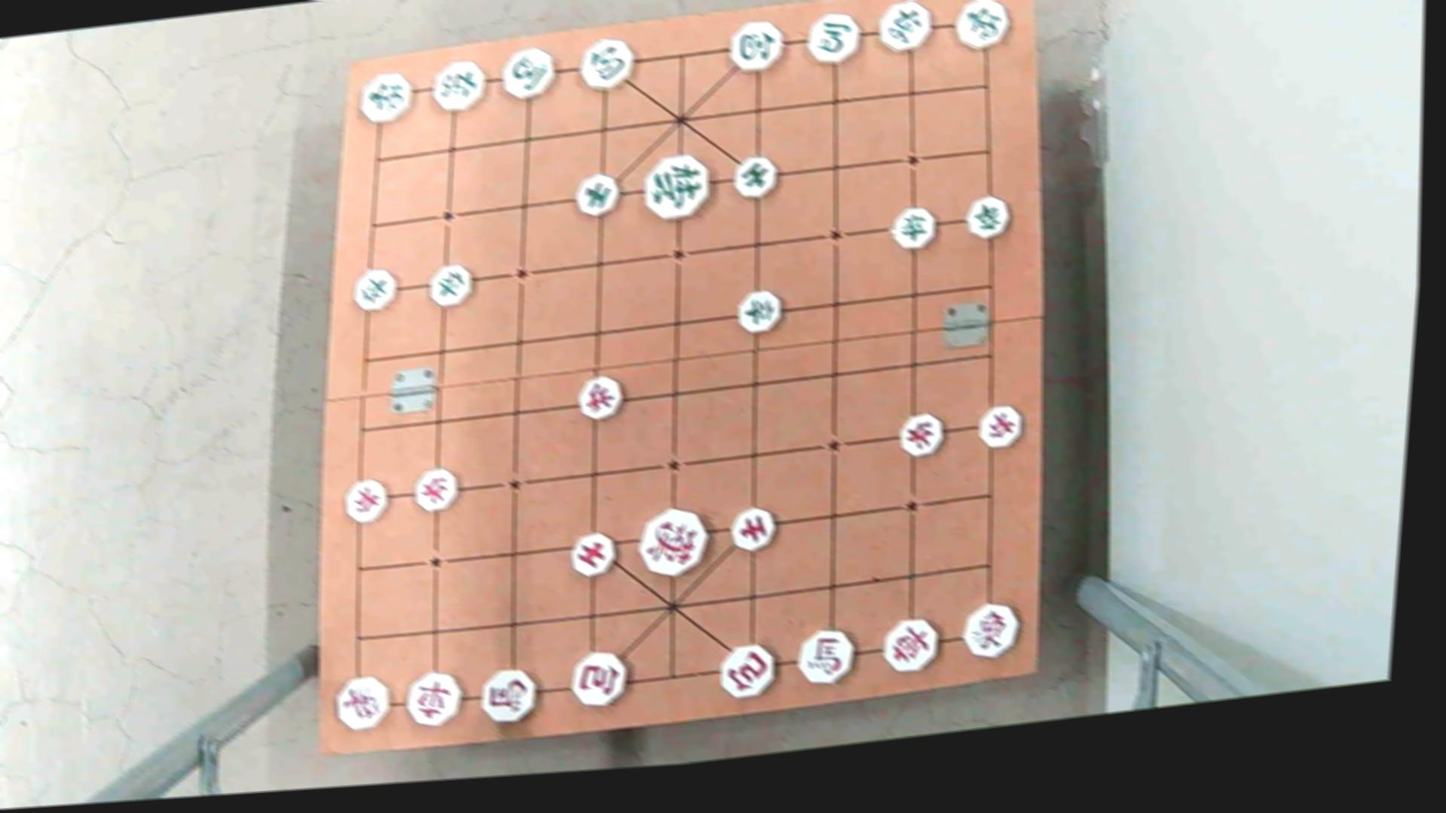cha_green: (429, 57, 492, 111), (876, 0, 938, 50)
cha_red: (401, 670, 467, 726), (879, 617, 940, 673)
jol_green: (347, 264, 400, 313), (426, 262, 477, 309), (732, 289, 785, 333), (963, 196, 1014, 239), (889, 208, 941, 250)
jol_red: (574, 376, 627, 420), (973, 403, 1026, 446), (410, 467, 463, 510), (341, 477, 393, 520), (894, 413, 947, 455)
ma_green: (497, 47, 559, 99), (800, 13, 863, 64)
ma_red: (789, 627, 859, 684), (475, 668, 541, 723)
po_green: (724, 20, 789, 72), (572, 38, 638, 89)
po_red: (569, 651, 635, 708), (717, 643, 783, 697)
sa_green: (730, 151, 782, 198), (573, 169, 622, 218)
sa_red: (564, 530, 620, 574), (725, 507, 779, 552)
sang_green: (353, 70, 415, 123), (950, 0, 1011, 50)
sang_red: (956, 601, 1025, 659), (328, 671, 392, 730)
wang_green: (639, 152, 715, 217)
wang_red: (631, 507, 711, 577)
